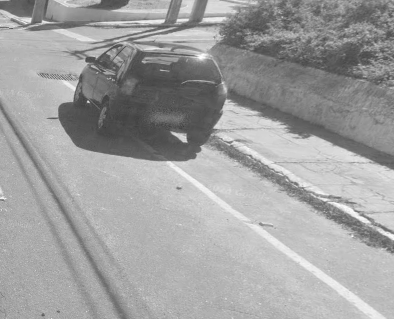car: (69, 29, 231, 167)
